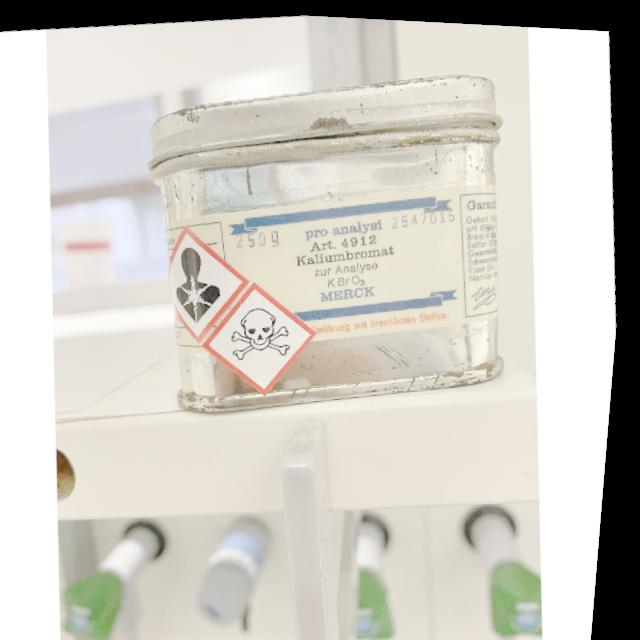acute toxicity: (231, 299, 299, 361)
serious health hazard: (173, 241, 233, 323)
